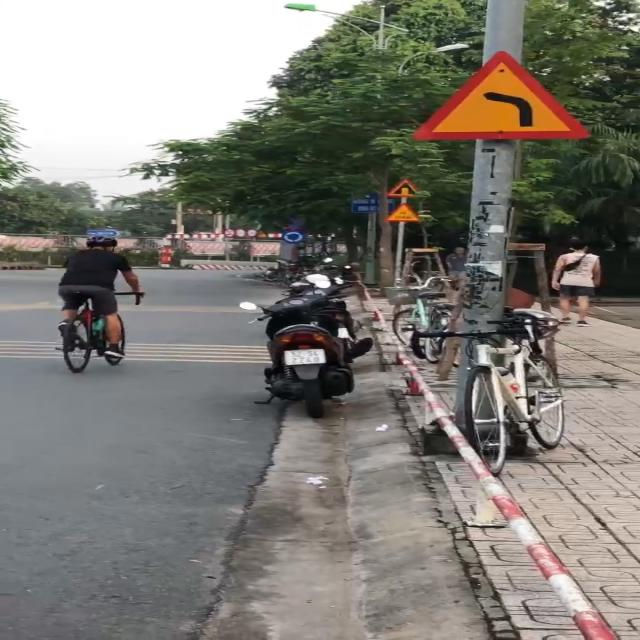Bien bao cho ngoat nguy hiem: (400, 48, 594, 142)
